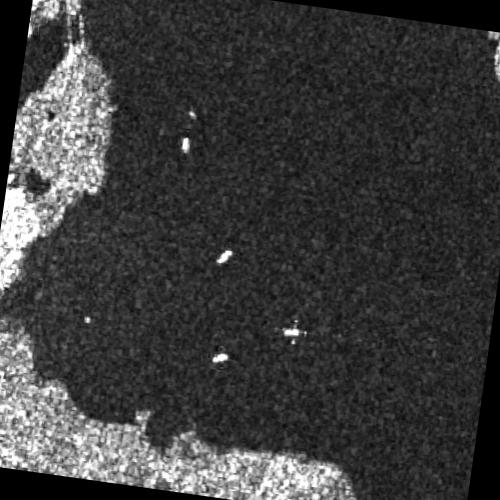ship: (216, 248, 233, 266), (282, 325, 302, 340), (212, 351, 229, 365), (181, 136, 192, 155)
